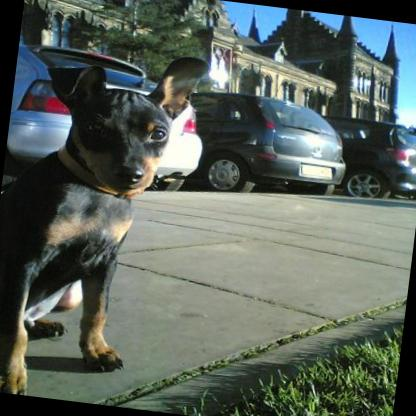miniature_pinscher: (0, 33, 211, 410)
